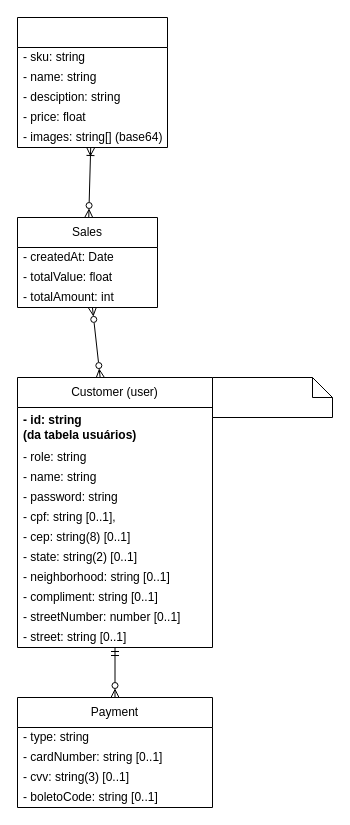
Image size: 350x825. Some labels were removed from this diagram. Here are the shapes that lost their labels. From the top down, the box of each, then its label:
(16, 16, 168, 148): Product
(212, 376, 332, 418): role: client, seller, admin
